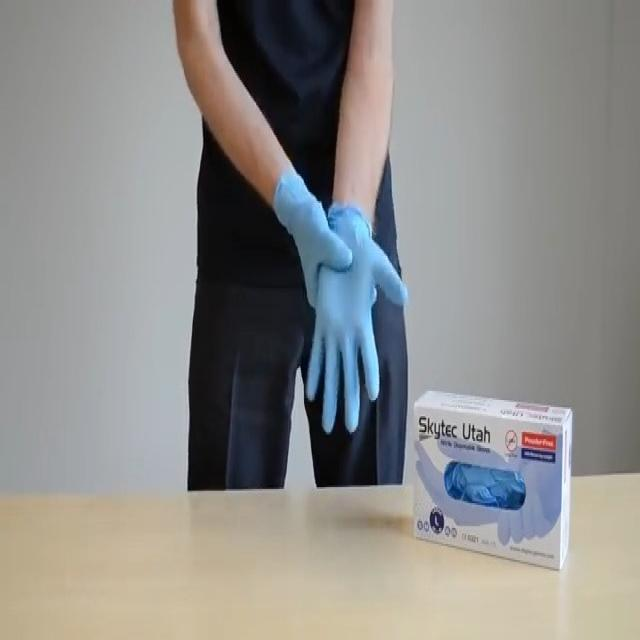Gloves: (310, 188, 411, 437), (274, 158, 348, 304)
